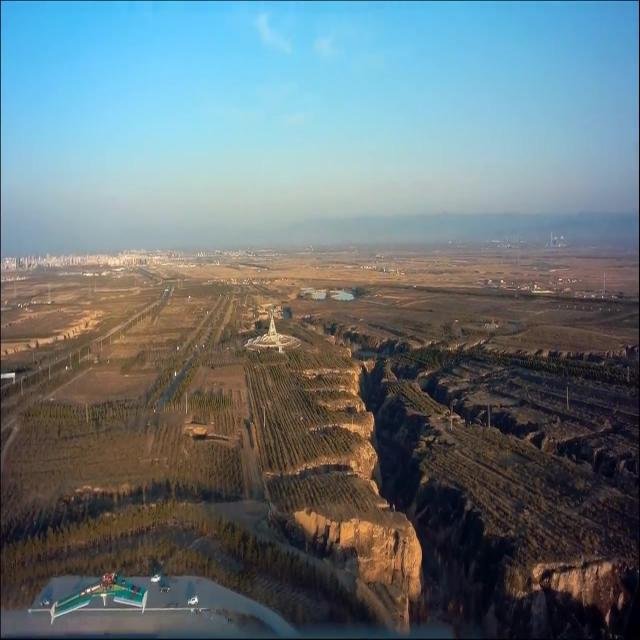iha: (18, 575, 52, 624)
